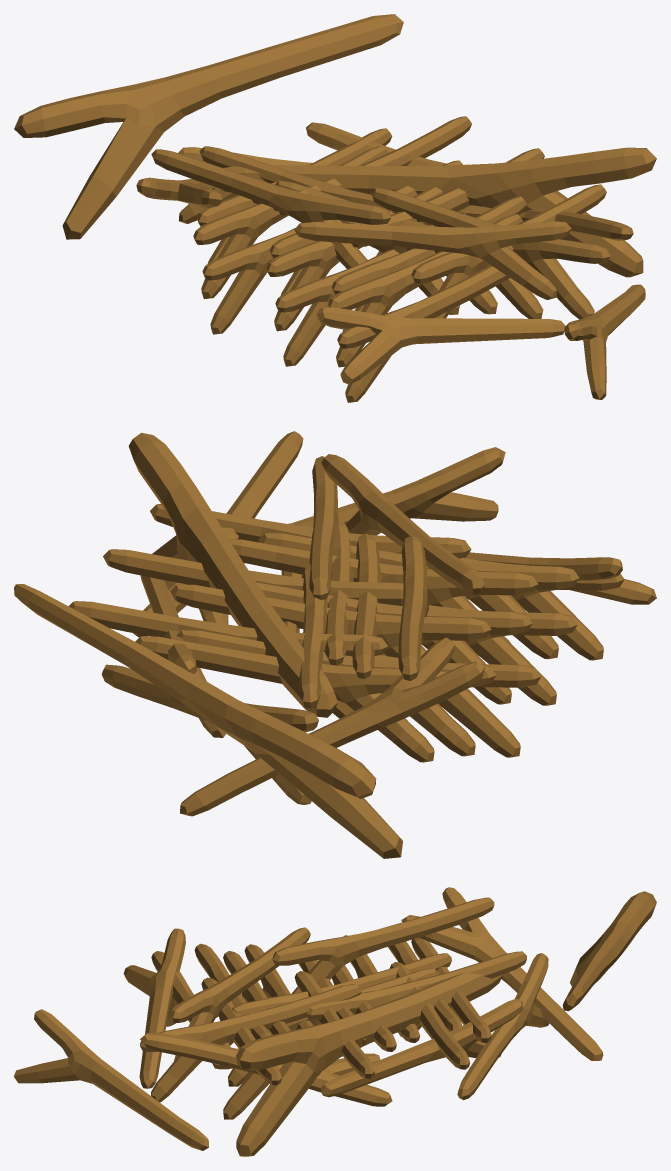
Rendered from NestBase.fbx.
The picture shows the model from 3 angles, top to bottom: view 1: azimuth 30°, elevation 25°; view 2: azimuth 150°, elevation 25°; view 3: azimuth 270°, elevation 25°; orthographic projection. The views are drawn at different scales.
Parts seen in each view (by area): view 1: Nest Base; view 2: Nest Base; view 3: Nest Base.
Boxes of the visible parts, <box> form: Nest Base: <box>14,14,656,402</box>; Nest Base: <box>14,431,656,858</box>; Nest Base: <box>14,887,656,1156</box>.
Bounding box in the file's own units: 52.93 × 19.46 × 75.98.
